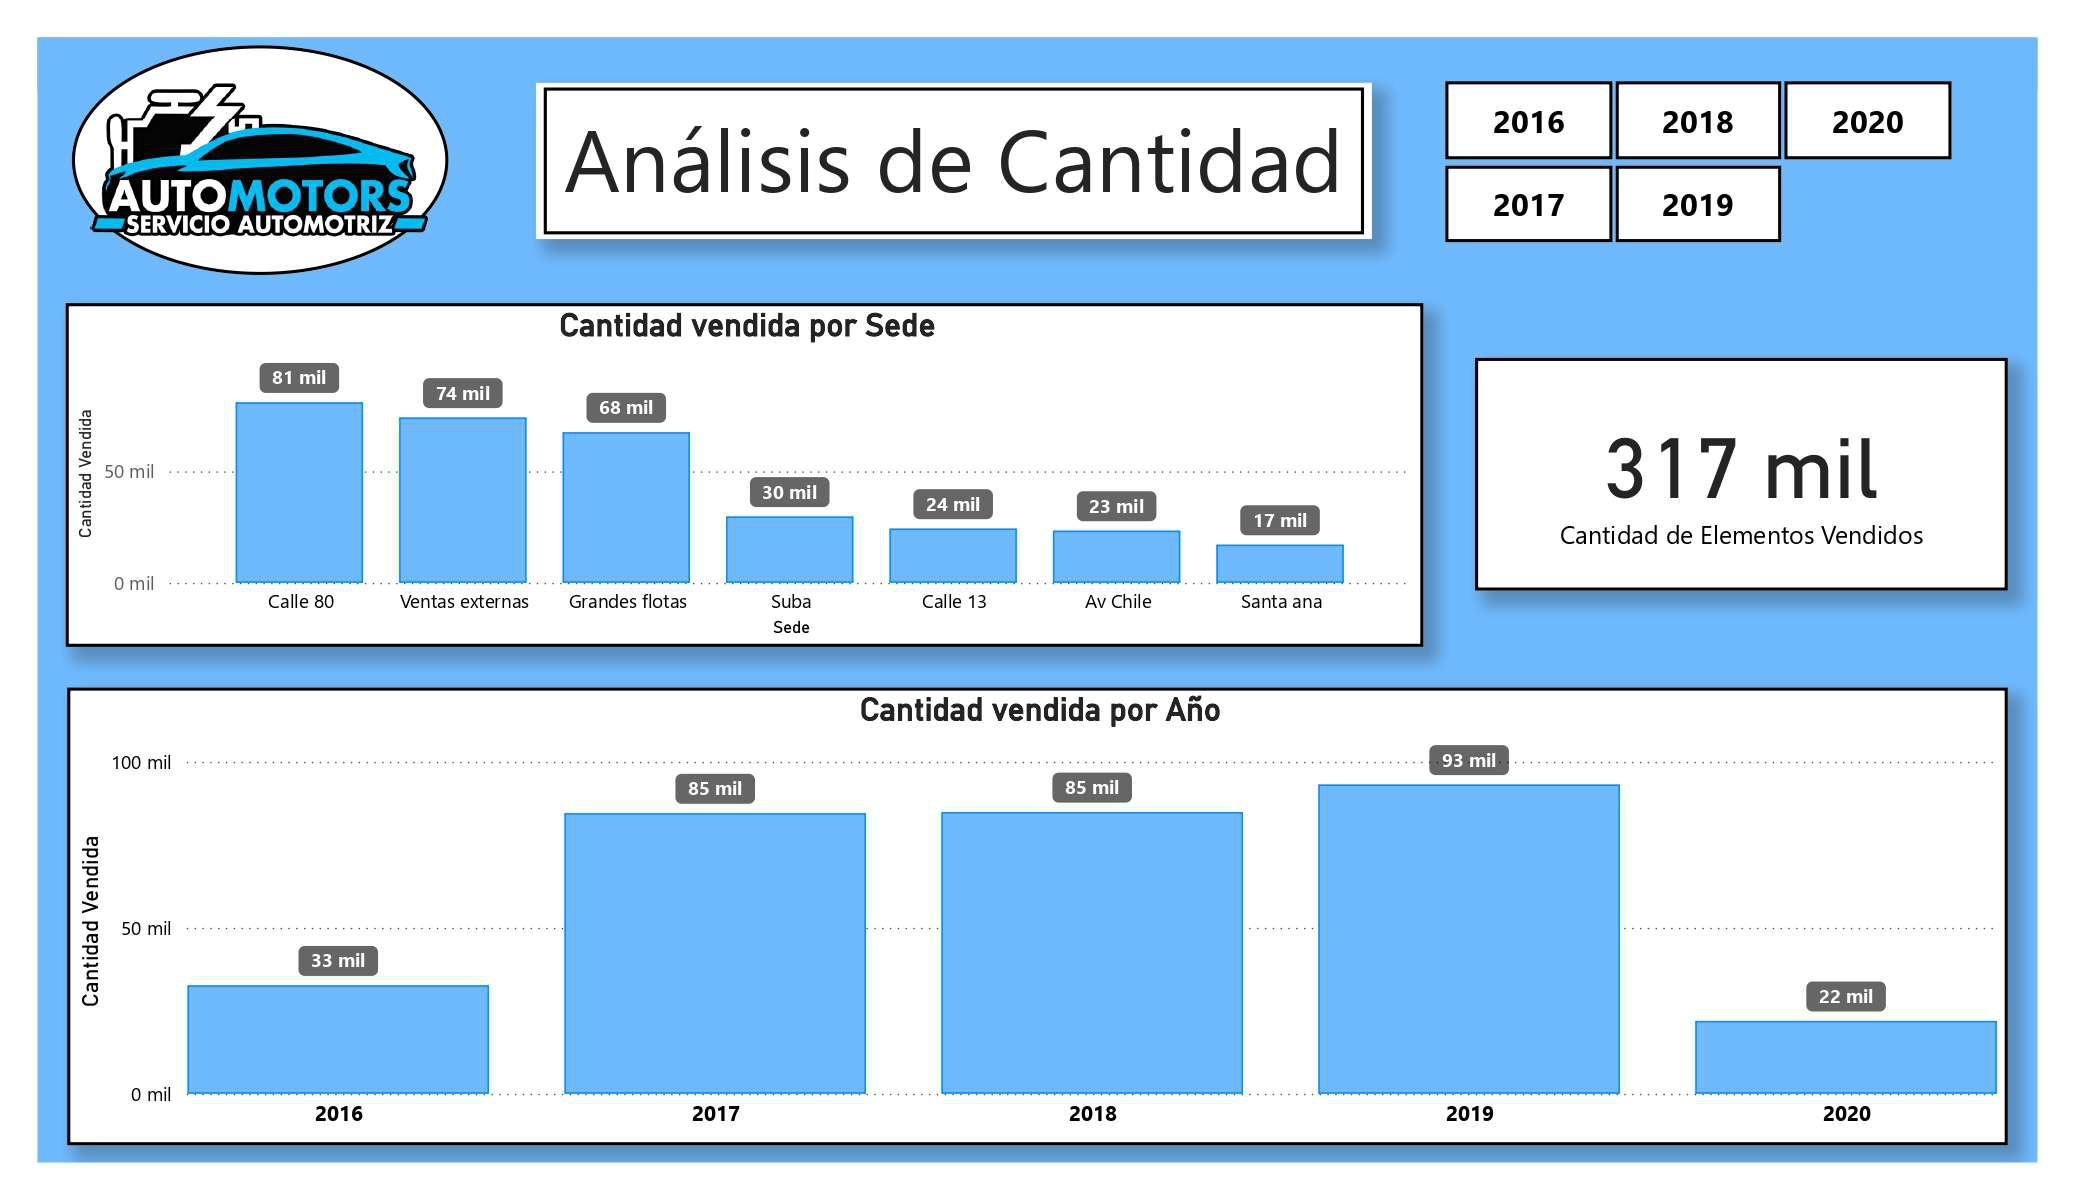

What the dashboard file says about the page in this screenshot:
{"tool":"powerbi","page":{"name":"Cantidad","canvas":[1280,720],"ordinal":1},"visuals":[{"type":"card","fields":{"Values":["Sum(Ventas2.Cantidad)"]},"box":[920.5,205.3,340.4,149.2],"z":0},{"type":"clusteredColumnChart","title":"Cantidad vendida por Año","fields":{"Category":["Ventas2.Año"],"Y":["Sum(Ventas2.Cantidad)"]},"box":[19.1,415.6,1241.8,293.2],"z":1000},{"type":"clusteredColumnChart","title":"Cantidad vendida por Sede","fields":{"Category":["Ventas2.Sede"],"Y":["Sum(Ventas2.Cantidad)"]},"box":[18.4,170,868.1,220.5],"z":2000},{"type":"slicer","fields":{"Values":["Ventas2.Año"]},"box":[874.8,20.7,373.8,117.7],"z":3000},{"type":"shape","box":[21.7,5.1,241,146.6],"z":4000},{"type":"image","box":[18.4,19.9,248,117.9],"z":5000},{"type":"shape","box":[319,29.1,535,99.8],"z":6000},{"type":"textbox","box":[324.5,31.8,524.9,93.8],"z":7000}]}

Visuals, with their boxes on the page's 1280x720 design canvas (x1, y1, x2, y2). These are canvas units, not pixel positions in the 2075x1200 screenshot, which may show the page scaled, cropped or inside an application window:
card - Sum(Ventas2.Cantidad): BBox(920, 205, 1261, 354)
"Cantidad vendida por Año" clusteredColumnChart: BBox(19, 416, 1261, 709)
"Cantidad vendida por Sede" clusteredColumnChart: BBox(18, 170, 886, 390)
slicer - Ventas2.Año: BBox(875, 21, 1249, 138)
shape: BBox(22, 5, 263, 152)
image: BBox(18, 20, 266, 138)
shape: BBox(319, 29, 854, 129)
textbox: BBox(324, 32, 849, 126)
